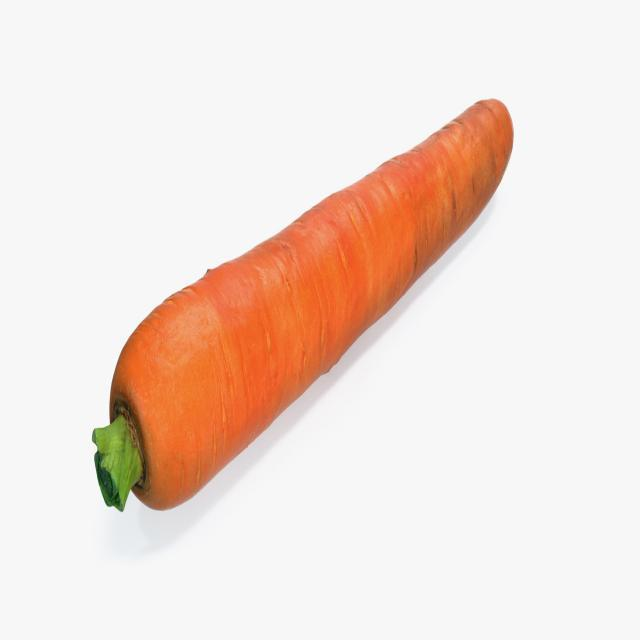carrot: (91, 97, 517, 549)
